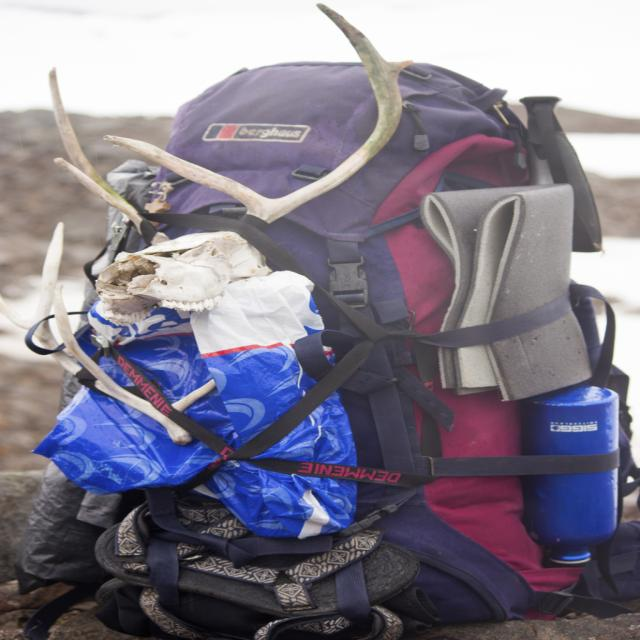backpack: (75, 62, 627, 622)
